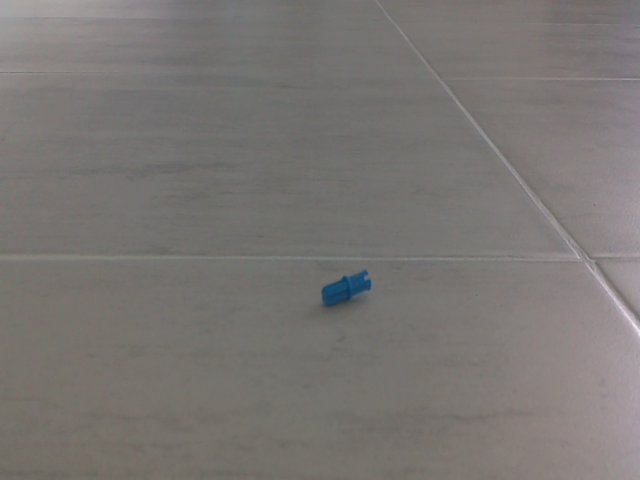Blau: (316, 264, 375, 314)
